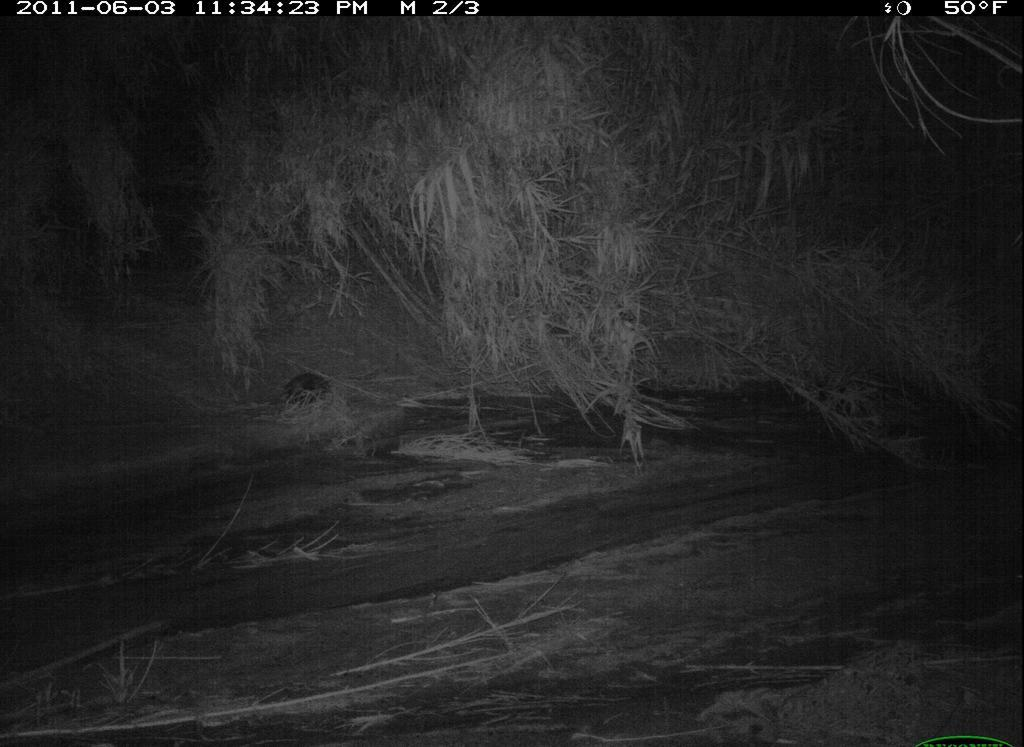opossum: (269, 361, 350, 418)
